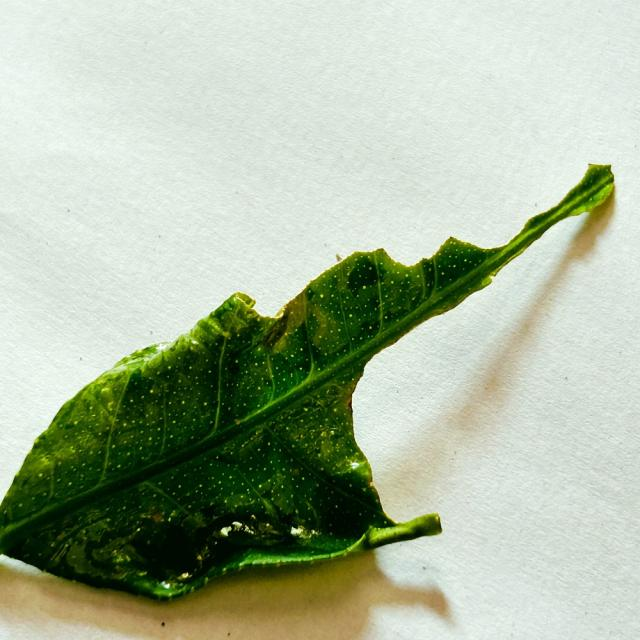Deficiency Leaf: (232, 200, 538, 314), (353, 310, 497, 520)
Lemon: (0, 165, 613, 599)
